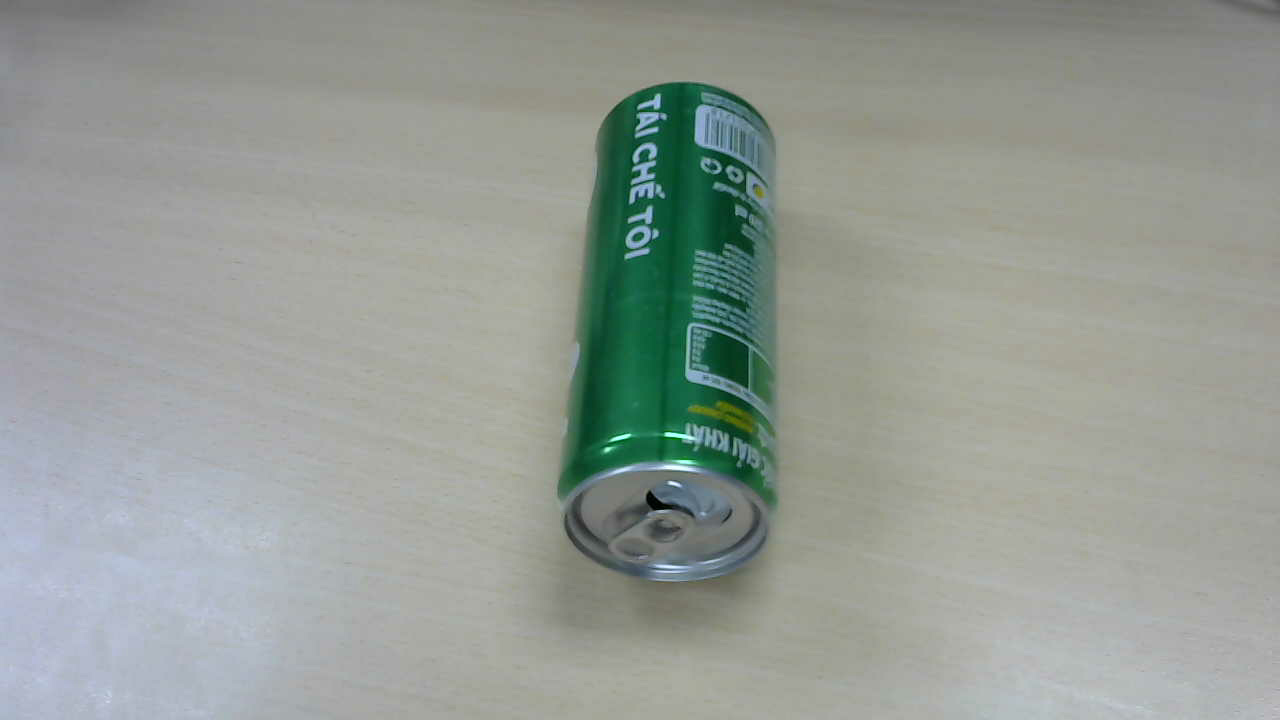Sprite: (562, 87, 791, 587)
